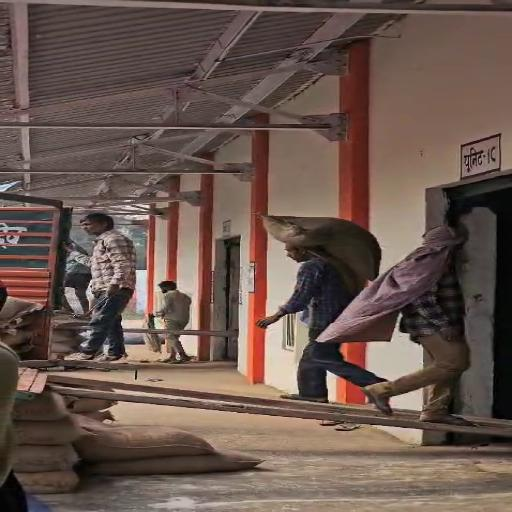bag: (255, 208, 388, 280)
